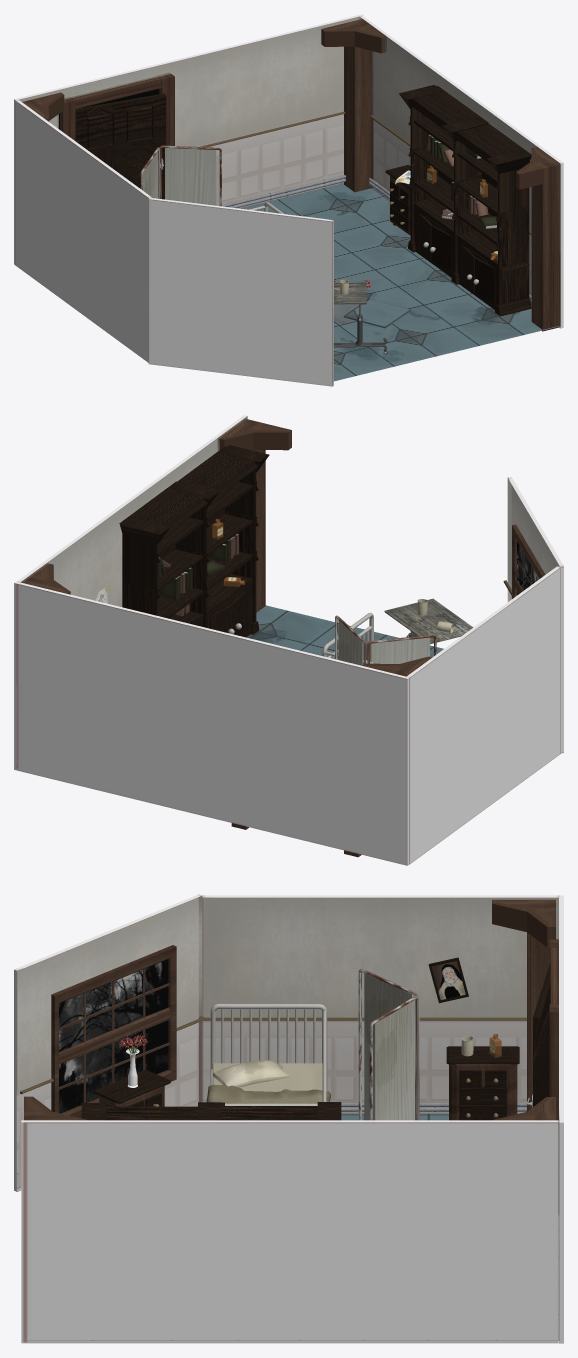
The model's file is horror_hospital_room.glb.
3 renders of one model, top to bottom at view 1: azimuth 30°, elevation 25°; view 2: azimuth 150°, elevation 25°; view 3: azimuth 270°, elevation 25°, orthographic. The views are drawn at different scales.
Visible parts, largest first — view 1: wall1, wall, pCube2, pPlane1, pCube4, pCube30, corcer_wood, corcer_wood2, divider1:pCylinder3, polySurface75, polySurface47, polySurface57 (+24 smaller); view 2: wall, pCube2, pCube4, pPlane1, corcer_wood2, wall1, divider1:pCylinder3, polySurface47, table:pCube2, polySurface75, polySurface57, polySurface86 (+14 smaller); view 3: pCube4, pCube2, wall1, outside, divider1:pCylinder3, bed3:pCylinder11, pCube16, bedside_shelf3, corcer_wood1, wall, pCube30, bedside_shelf (+8 smaller).
Part boxes in pixels (x1,y1,x2,y2): wall1: (148, 197, 333, 386); wall: (14, 14, 363, 264); pCube2: (15, 99, 151, 362); pPlane1: (240, 183, 559, 381); pCube4: (359, 16, 563, 328); pCube30: (75, 93, 166, 199); corcer_wood: (321, 19, 386, 192); corcer_wood2: (516, 147, 560, 331); divider1:pCylinder3: (140, 145, 221, 206); polySurface75: (498, 169, 528, 305); polySurface47: (410, 107, 438, 241); polySurface57: (409, 85, 488, 130); wall: (14, 581, 409, 865); pCube2: (406, 566, 560, 864); pCube4: (17, 415, 247, 606); pPlane1: (246, 605, 443, 659); corcer_wood2: (218, 419, 291, 612); wall1: (507, 477, 563, 753); divider1:pCylinder3: (335, 615, 436, 665); polySurface47: (122, 535, 157, 615); table:pCube2: (384, 598, 473, 644); polySurface75: (225, 470, 256, 622); polySurface57: (119, 481, 207, 534); polySurface86: (177, 446, 257, 499); pCube4: (21, 1120, 558, 1343); pCube2: (202, 895, 560, 1115); wall1: (14, 894, 202, 1191); outside: (59, 959, 168, 1113); divider1:pCylinder3: (358, 969, 419, 1120); bed3:pCylinder11: (206, 1003, 330, 1105); pCube16: (51, 945, 176, 1118); bedside_shelf3: (446, 1046, 519, 1120); corcer_wood1: (492, 900, 555, 1111); wall: (559, 895, 563, 1343); pCube30: (533, 962, 550, 1106); bedside_shelf: (94, 1070, 170, 1106).
Bounding box in the file's own units: 0.1875 × 0.0863 × 0.1909.
47 materials, 31 textured.
